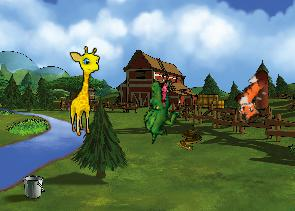crocodile: (134, 77, 184, 144)
fox: (225, 66, 285, 128)
giraffe: (69, 46, 101, 136)
